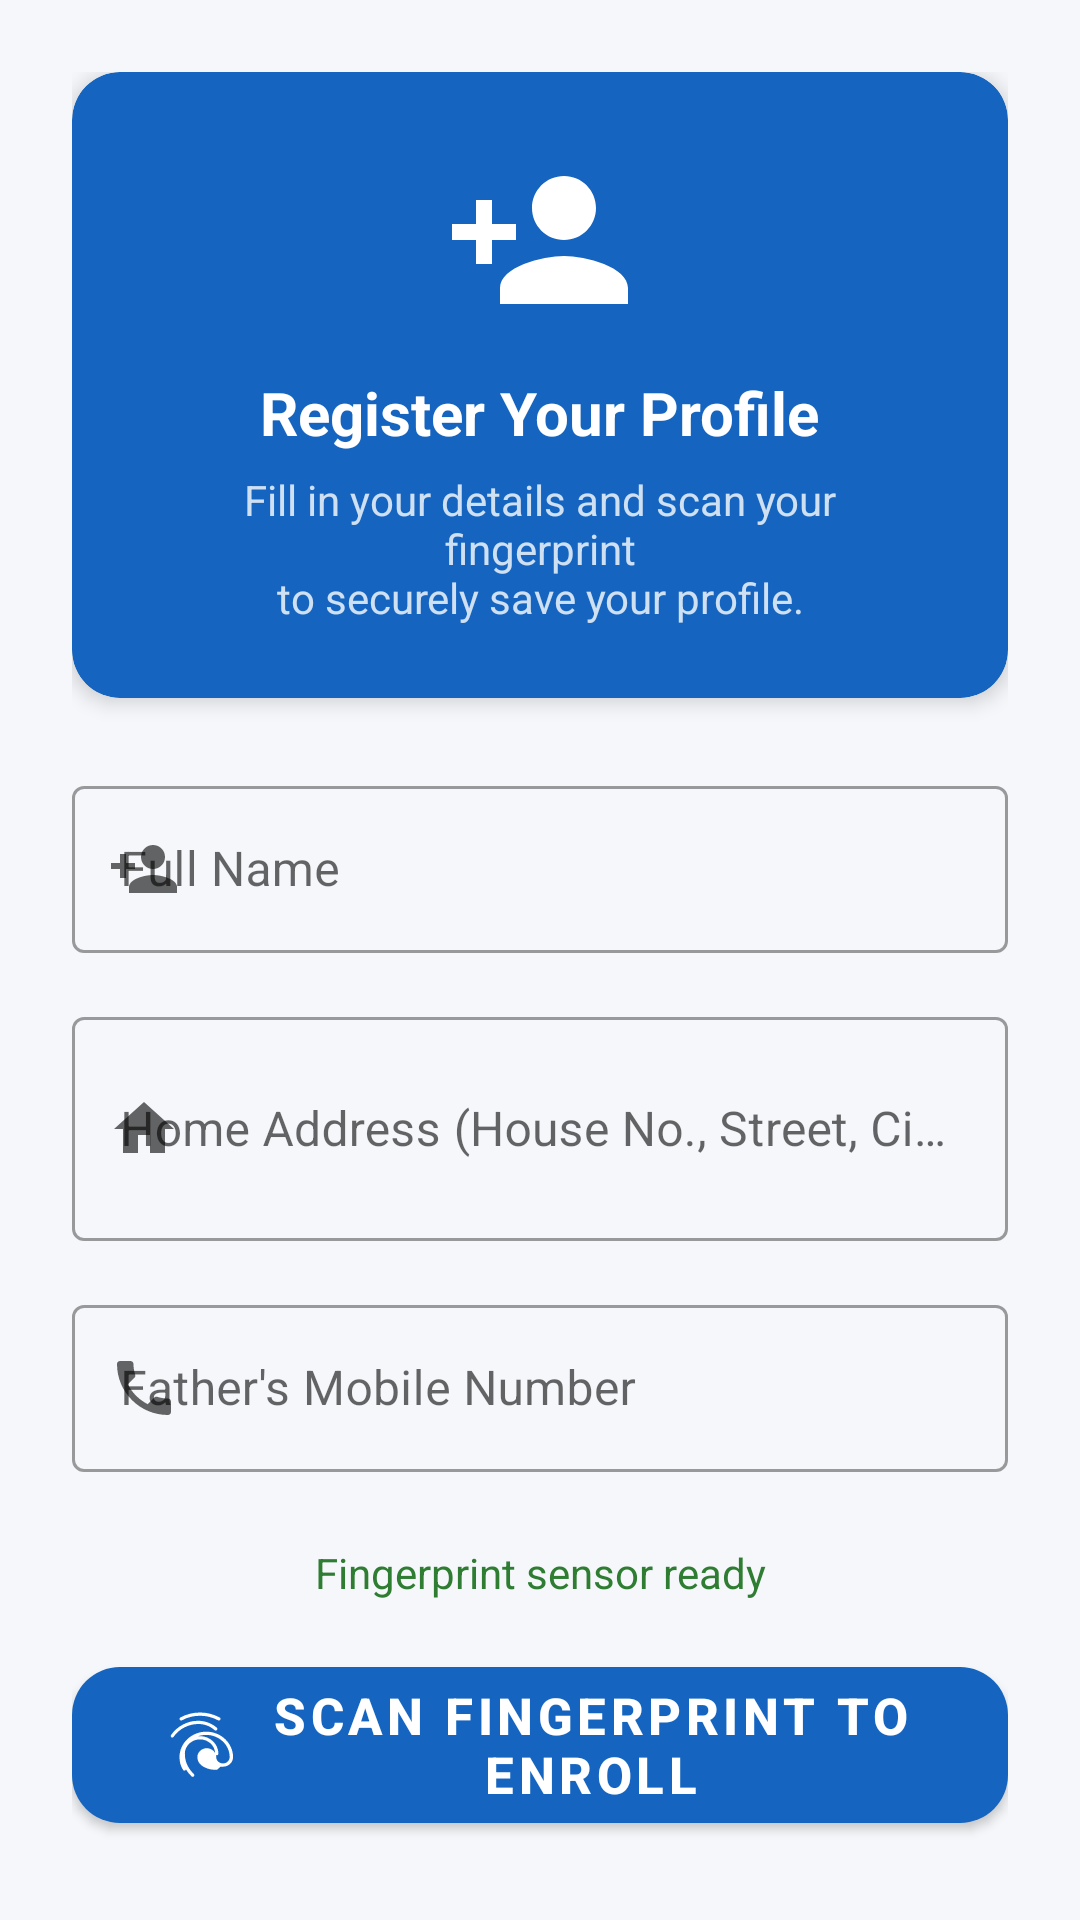

Point at icon controls on the screen. Image size 1080*1920, points as (x=x, y=y).
Enroll Profile: (x=540, y=240)
